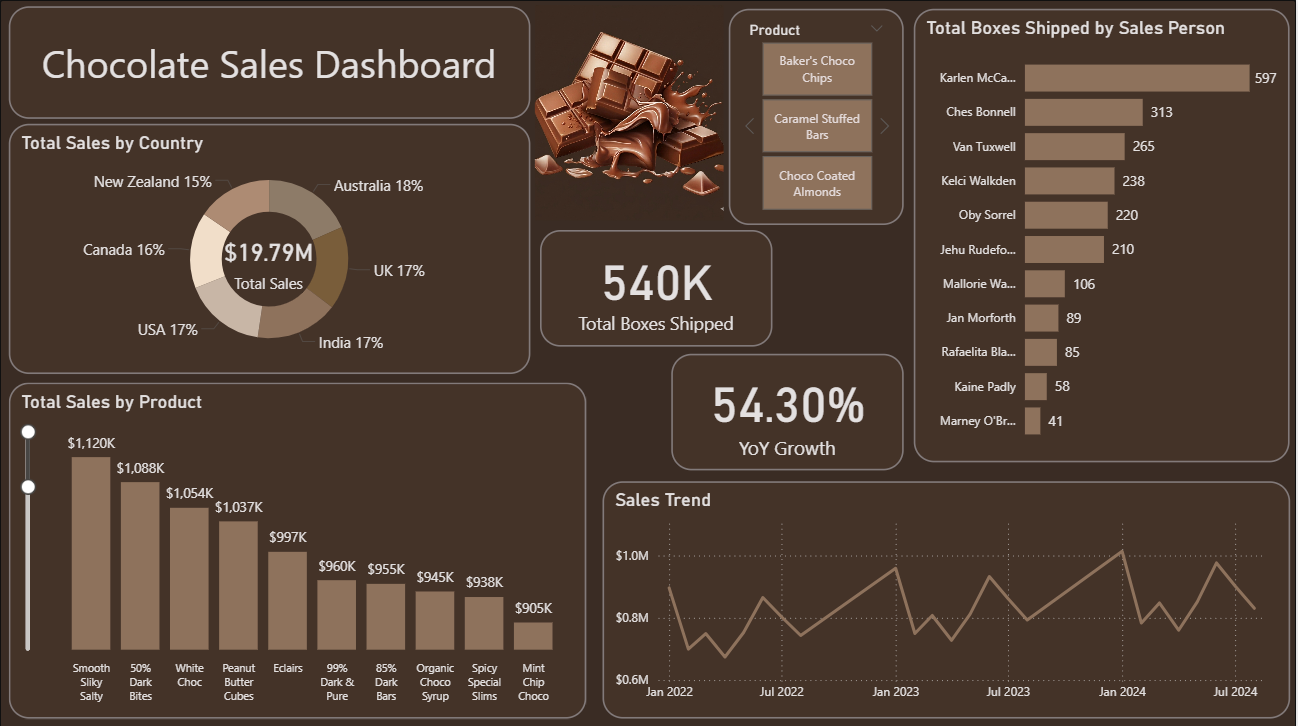

The page's visual inventory and layout, read from the dashboard file:
{"tool":"powerbi","page":{"name":"Page 1","canvas":[1280,720],"ordinal":0},"visuals":[{"type":"barChart","title":"Total Boxes Shipped by Sales Person","fields":{"Category":["Chocolate Sales.Sales Person"],"Y":["Sum(Chocolate Sales.Boxes Shipped)"]},"box":[902.4,8.3,371.4,447.6],"z":0},{"type":"donutChart","title":"Total Sales by Country","fields":{"Category":["Chocolate Sales.Country"],"Y":["Sum(Chocolate Sales.Amount)"]},"box":[8.6,122.2,514.8,246.9],"z":1000,"group":"g1"},{"type":"card","fields":{"Values":["Sum(Chocolate Sales.Boxes Shipped)"]},"box":[533.3,227.2,229.6,114.8],"z":1000},{"type":"card","fields":{"Values":["Chocolate Sales.Sum of Amount YoY%"]},"box":[663,349.4,229.6,114.8],"z":2000},{"type":"group","id":"g1","title":"Group 1","box":[8.6,122.2,514.8,246.9],"z":3000},{"type":"card","fields":{"Values":["Sum(Chocolate Sales.Amount)"]},"box":[204.9,224.7,121,67.9],"z":3000,"group":"g1"},{"type":"textbox","box":[8.6,6.2,514.8,111.1],"z":4000},{"type":"image","box":[523.5,0,196.3,222.2],"z":5000},{"type":"columnChart","title":"Total Sales by Product","fields":{"Y":["Sum(Chocolate Sales.Sales)"],"Category":["Chocolate Sales.Product","Chocolate Sales.Country"]},"box":[8.6,377.8,570.4,332.1],"z":6000},{"type":"lineChart","title":"Sales Trend","fields":{"Category":["Chocolate Sales.Date.Variation.Date Hierarchy.Year","Chocolate Sales.Date.Variation.Date Hierarchy.Month"],"Y":["Sum(Chocolate Sales.Sales)"]},"box":[595.1,475.3,679,234.6],"z":7000},{"type":"slicer","fields":{"Values":["Chocolate Sales.Product"]},"box":[719.8,8.6,172.8,213.6],"z":8000}]}

Visuals, with their boxes in screenshot pixels (x1, y1, x2, y2), scaled from the page's 1280x720 canvas onto the 1298x726 screenshot:
"Total Boxes Shipped by Sales Person" barChart: <bbox>915, 8, 1292, 460</bbox>
"Total Sales by Country" donutChart: <bbox>9, 123, 531, 372</bbox>
card - Sum(Chocolate Sales.Boxes Shipped): <bbox>541, 229, 774, 345</bbox>
card - Chocolate Sales.Sum of Amount YoY%: <bbox>672, 352, 905, 468</bbox>
"Group 1" group: <bbox>9, 123, 531, 372</bbox>
card - Sum(Chocolate Sales.Amount): <bbox>208, 227, 330, 295</bbox>
textbox: <bbox>9, 6, 531, 118</bbox>
image: <bbox>531, 0, 730, 224</bbox>
"Total Sales by Product" columnChart: <bbox>9, 381, 587, 716</bbox>
"Sales Trend" lineChart: <bbox>603, 479, 1292, 716</bbox>
slicer - Chocolate Sales.Product: <bbox>730, 9, 905, 224</bbox>
